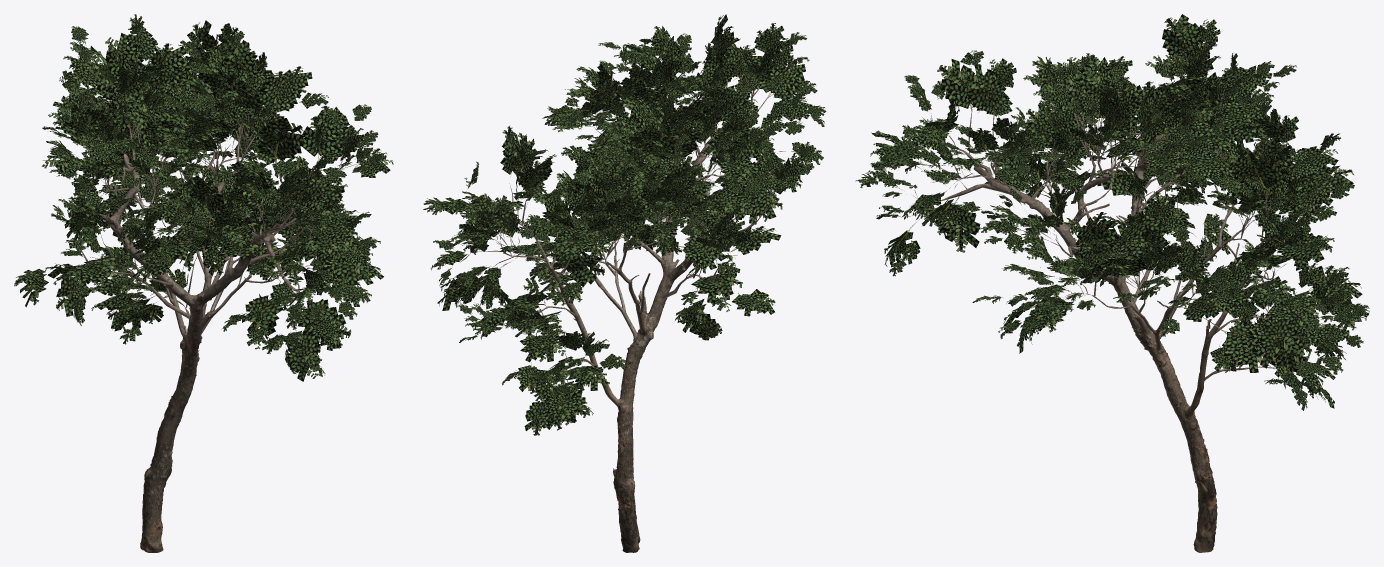
The model's file is tree_small_02.gltf.
The picture shows the model from 3 angles, left to right: view 1: azimuth 30°, elevation 25°; view 2: azimuth 150°, elevation 25°; view 3: azimuth 270°, elevation 25°; orthographic projection. The views are drawn at different scales.
Visible parts, largest first — view 1: tree_small_02_LOD0; view 2: tree_small_02_LOD0; view 3: tree_small_02_LOD0.
Part boxes in pixels (bbox=[...]): tree_small_02_LOD0: bbox=[14, 14, 393, 552]; tree_small_02_LOD0: bbox=[423, 14, 826, 552]; tree_small_02_LOD0: bbox=[855, 14, 1369, 552].
Size of the model in its own units: 2.94 by 4.57 by 4.3.
Materials: 3 (3 with a texture image).
